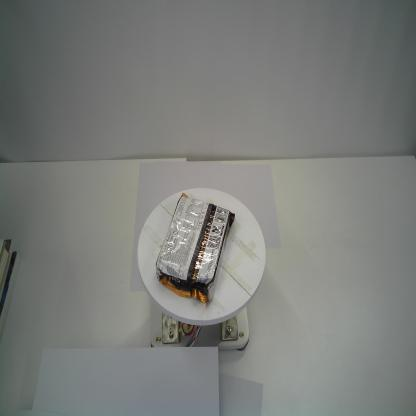Dessert: (156, 192, 235, 311)
